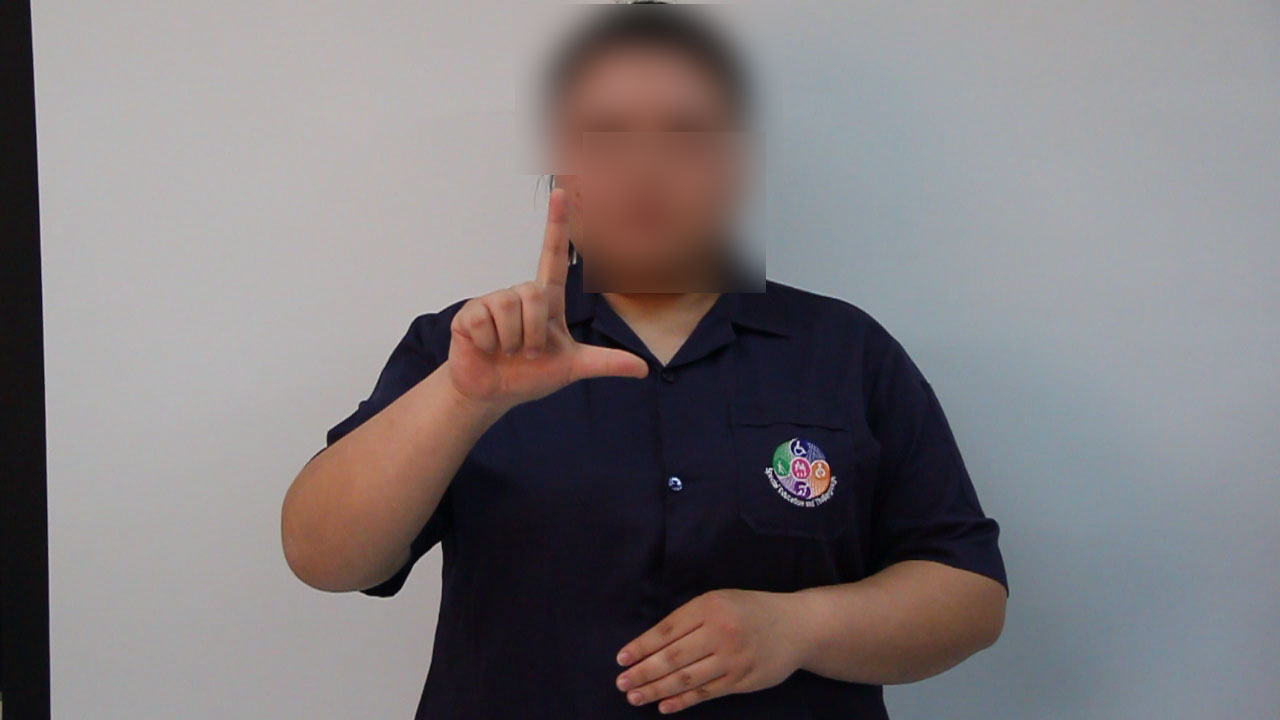lor: (426, 173, 663, 422)
